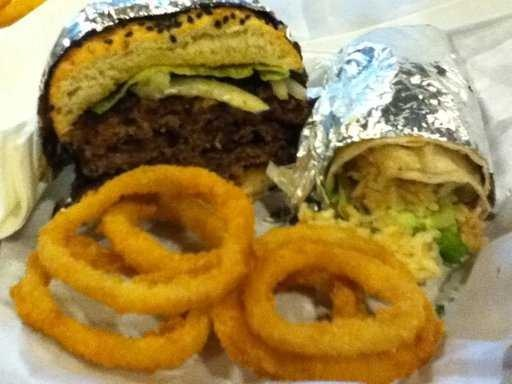hamburger: (50, 5, 314, 186)
